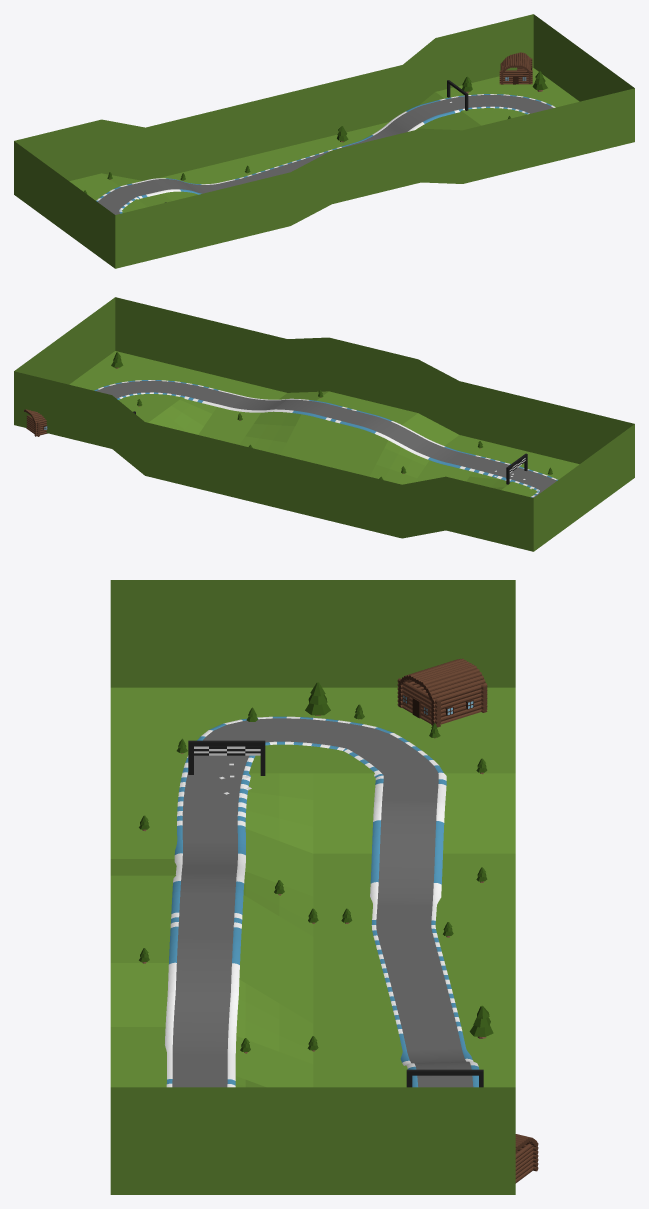
File: small-jump-track.glb
The picture shows the model from 3 angles, top to bottom: view 1: azimuth 30°, elevation 25°; view 2: azimuth 150°, elevation 25°; view 3: azimuth 270°, elevation 25°; orthographic projection. The views are drawn at different scales.
Visible parts, largest first — view 1: ground, road, cabin.001; view 2: ground, road, cabin.001; view 3: ground, road, cabin, goal, cabin.001.
Part boxes in pixels (<box>): ground: <box>14,14,634,268</box>; road: <box>96,94,555,214</box>; cabin.001: <box>499,52,532,84</box>; ground: <box>14,297,634,551</box>; road: <box>94,380,557,497</box>; cabin.001: <box>24,409,47,436</box>; ground: <box>110,580,515,1194</box>; road: <box>165,716,479,1087</box>; cabin: <box>397,658,487,727</box>; goal: <box>188,740,265,775</box>; cabin.001: <box>515,1134,538,1183</box>.
Size of the model in its own units: 534 by 83.5 by 190.
2 materials, 2 textured.
